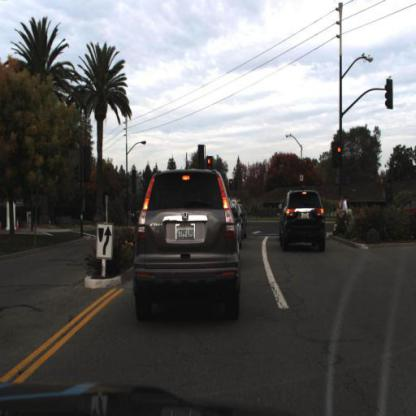car: (130, 168, 242, 323), (277, 189, 328, 254), (396, 195, 416, 226), (338, 199, 344, 226)
pedestrian: (342, 194, 350, 230), (337, 194, 345, 221)
trafficLight-Red: (207, 155, 215, 171), (337, 146, 343, 166), (207, 156, 213, 174), (381, 177, 386, 195)
